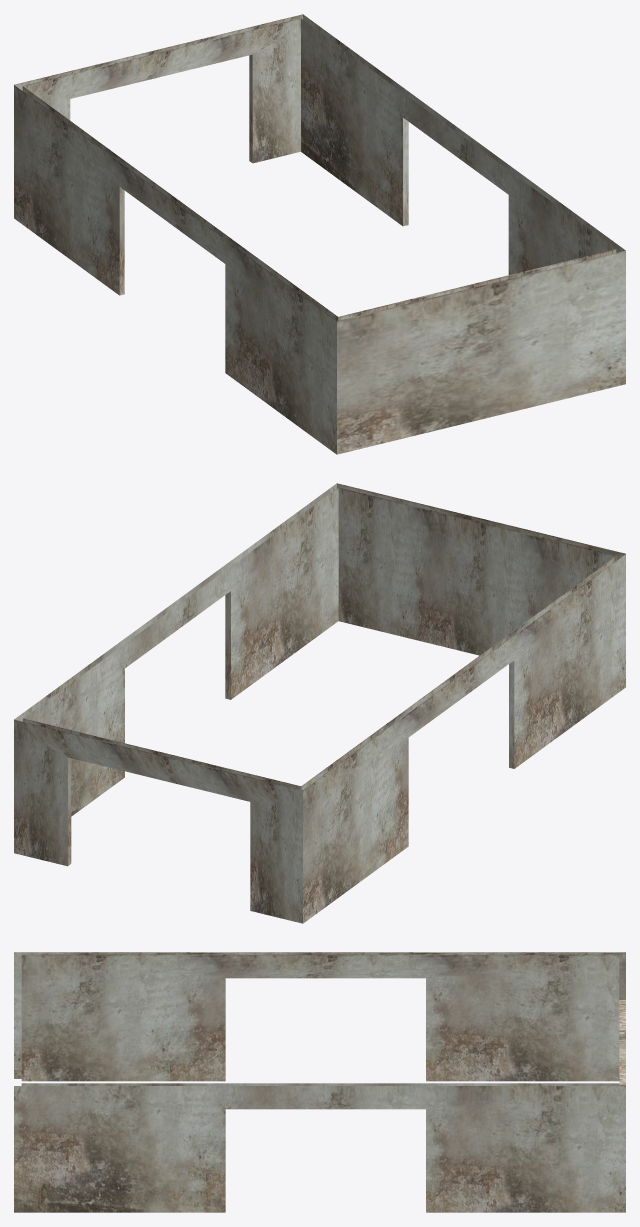
3 views of the same model, one above another, from view 1: azimuth 30°, elevation 25°; view 2: azimuth 150°, elevation 25°; view 3: azimuth 270°, elevation 25° (orthographic). The views are drawn at different scales.
Parts seen in each view (by area): view 1: f4FW; view 2: f4FW; view 3: f4FW.
Part boxes in pixels (<box>): f4FW: <box>14,14,625,454</box>; f4FW: <box>14,483,625,923</box>; f4FW: <box>14,952,625,1212</box>.
Bounding box in the file's own units: 158 × 69.64 × 305.
